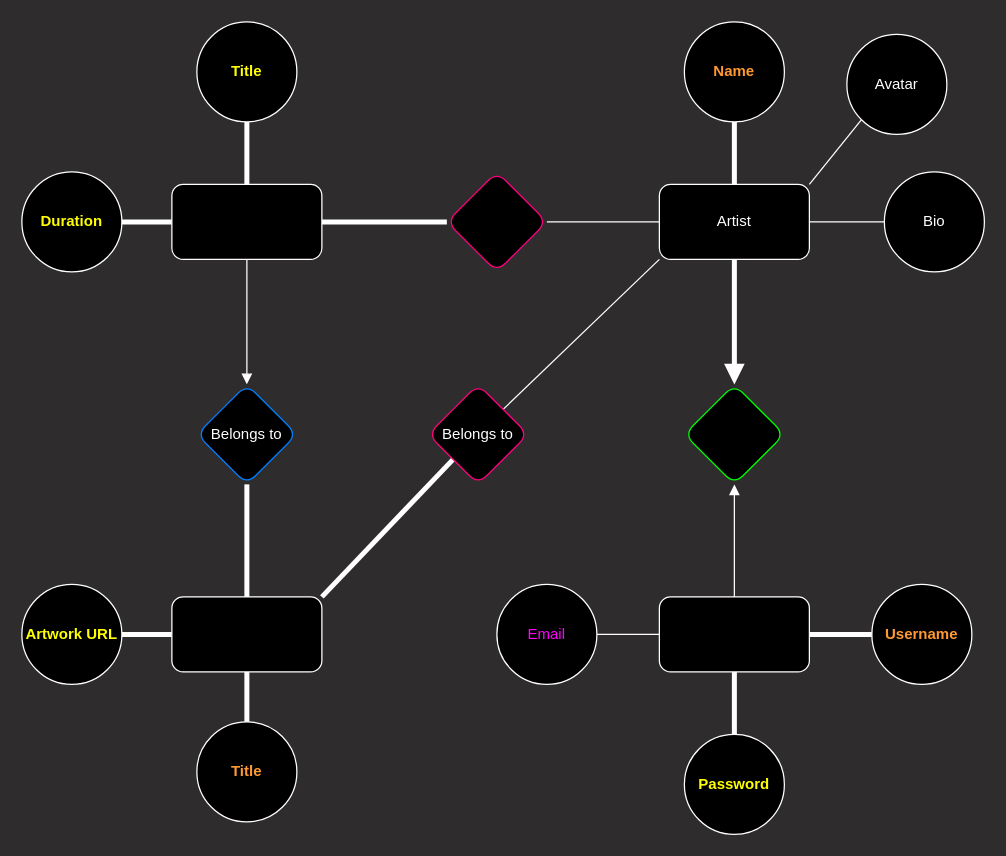
This 1006x856 diagram has some shape labels left out. The centre of each missing label's shape, as x and y in pixels:
"Album" belongs at point (246, 634).
"Has" belongs at point (733, 433).
"Song" belongs at point (246, 221).
"User" belongs at point (733, 634).
"Written by" belongs at point (496, 221).
